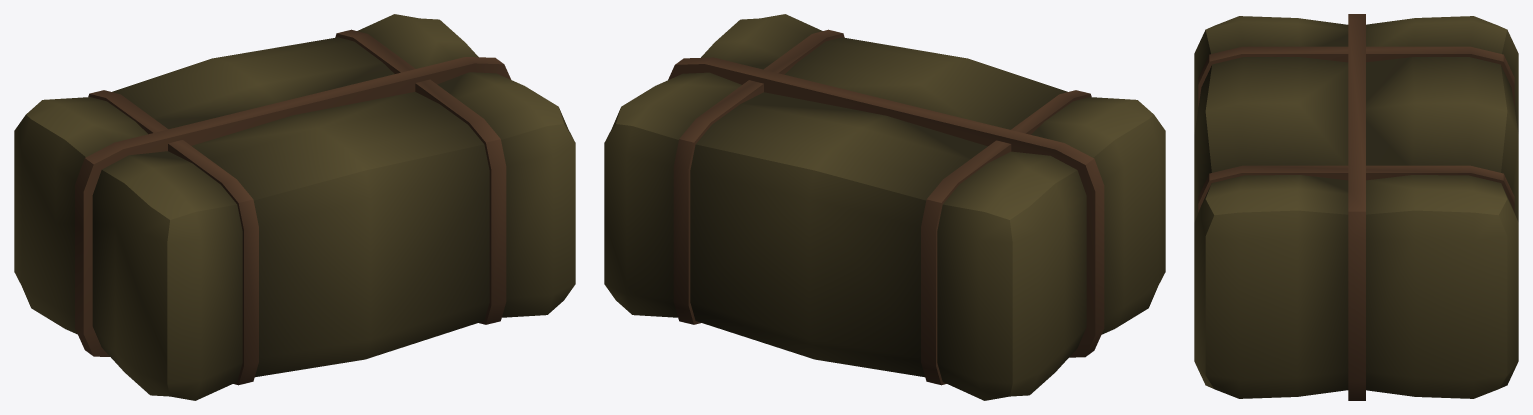
File: pq_ballot.glb
The picture shows the model from 3 angles, left to right: view 1: azimuth 30°, elevation 25°; view 2: azimuth 150°, elevation 25°; view 3: azimuth 270°, elevation 25°; orthographic projection.
Visible parts, largest first — view 1: Package_1; view 2: Package_1; view 3: Package_1.
Part boxes in pixels (box(x1,y1,x2,y2)): Package_1: box(14, 14, 575, 400); Package_1: box(604, 14, 1165, 400); Package_1: box(1194, 14, 1518, 400).
Size of the model in its own units: 0.9 by 0.4165 by 0.5954.
